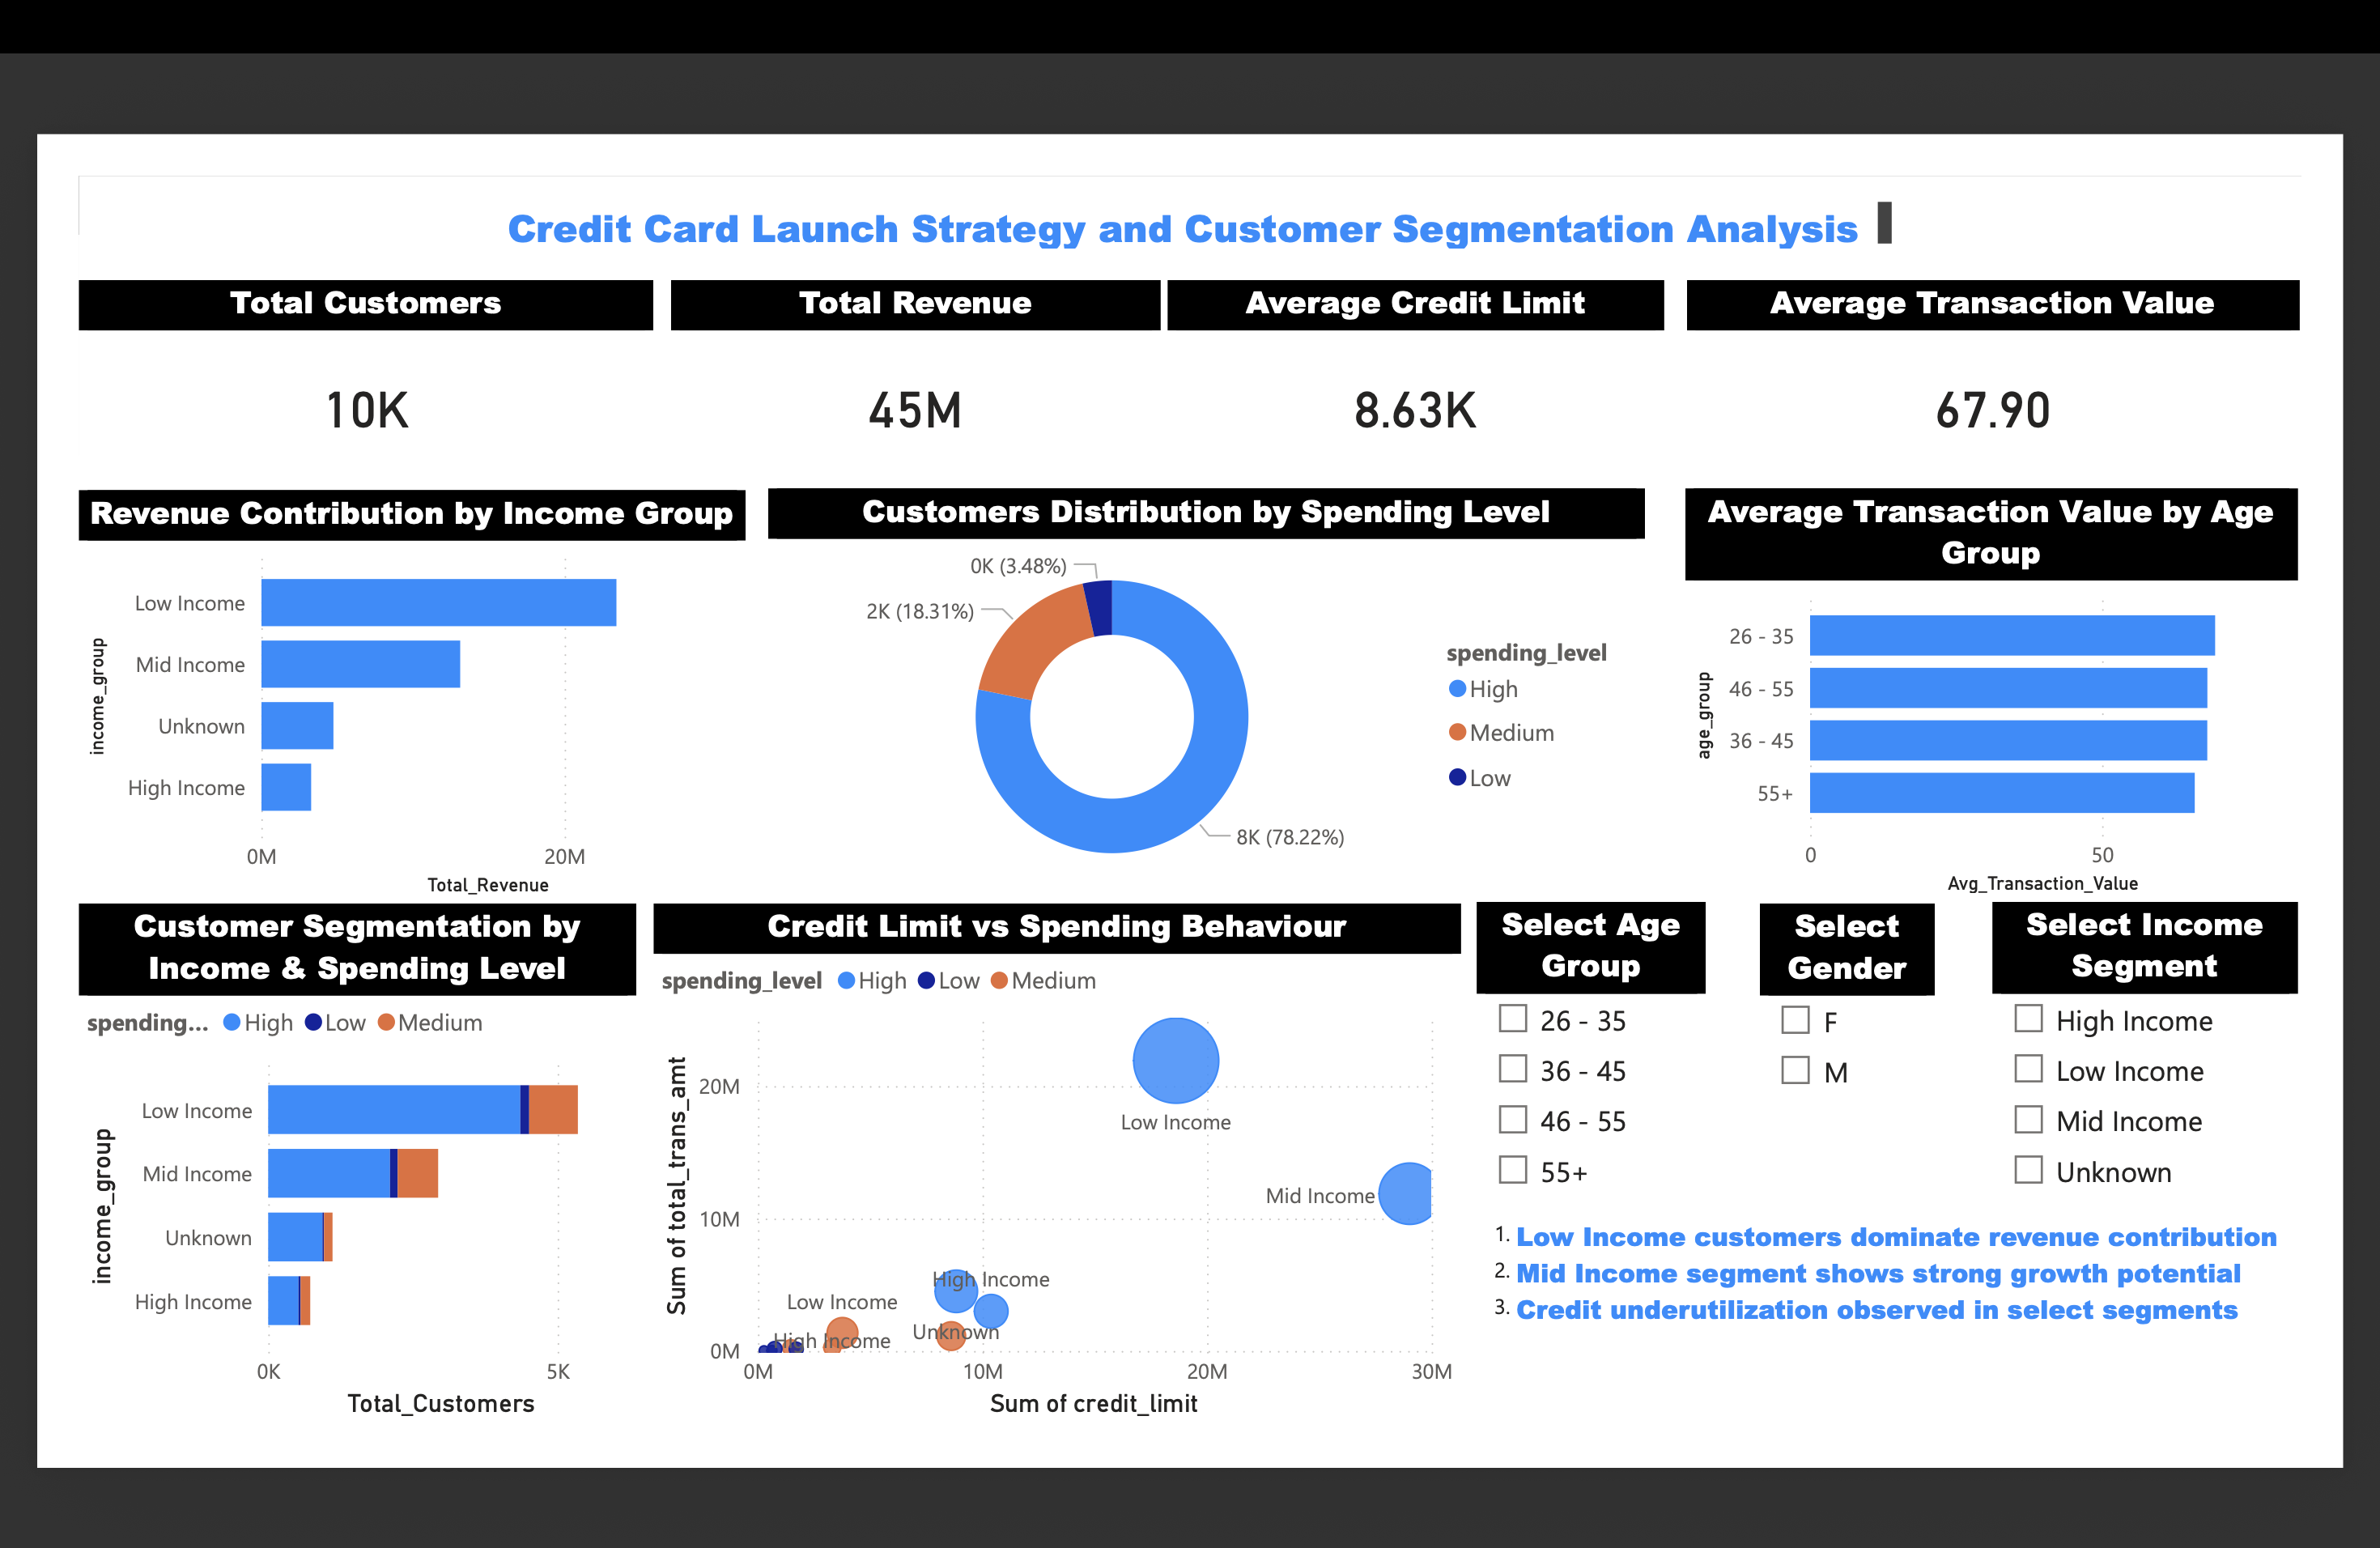

Layout of this report page (visuals, bound fields, positions):
{"tool":"powerbi","page":{"name":"Page 1","canvas":[1280,720],"ordinal":0},"visuals":[{"type":"card","title":"Total Customers","fields":{"Values":["customers.Total_Customers"]},"box":[0,59.9,331.2,120.9],"z":0},{"type":"card","title":"Total Revenue","fields":{"Values":["customers.Total_Revenue"]},"box":[341.4,59.9,281.4,120.9],"z":1},{"type":"card","title":"Average Credit Limit","fields":{"Values":["customers.Avg_Credit_Limit"]},"box":[627.3,59.9,286,120.9],"z":2},{"type":"card","title":"Average Transaction Value","fields":{"Values":["customers.Avg_Transaction_Value"]},"box":[925.7,59.9,353.8,120.9],"z":3},{"type":"barChart","title":"Revenue Contribution by Income Group","fields":{"Category":["customers.income_group"],"Y":["customers.Total_Revenue"]},"box":[0,180.8,384.3,238.5],"z":4},{"type":"donutChart","title":"Customers Distribution by Spending Level","fields":{"Category":["customers.spending_level"],"Y":["customers.Total_Customers"]},"box":[396.7,179.7,505.2,239.6],"z":5},{"type":"barChart","title":"Average Transaction Value by Age Group","fields":{"Category":["customers.age_group"],"Y":["customers.Avg_Transaction_Value"]},"box":[924.6,179.7,353.8,238.5],"z":6},{"type":"barChart","title":"Customer Segmentation by Income & Spending Level","fields":{"Category":["customers.income_group"],"Series":["customers.spending_level"],"Y":["customers.Total_Customers"]},"box":[0,419.3,321,300.7],"z":7},{"type":"slicer","title":"Select Gender","fields":{"Values":["customers.gender"]},"box":[967.5,419.3,101.7,175.2],"z":9},{"type":"slicer","title":"Select Age Group","fields":{"Values":["customers.age_group"]},"box":[804.8,418.2,132.2,176.3],"z":10},{"type":"slicer","title":"Select Income Segment","fields":{"Values":["customers.income_group"]},"box":[1102,418.2,176.3,176.3],"z":11},{"type":"scatterChart","title":"Credit Limit vs Spending Behaviour","fields":{"X":["Sum(customers.credit_limit)"],"Y":["Sum(customers.total_trans_amt)"],"Size":["Sum(customers.total_trans_count)"],"Series":["customers.spending_level"],"Category":["customers.income_group"]},"box":[331.2,419.3,464.6,300.7],"z":12},{"type":"textbox","box":[804.8,594.5,473.6,120.9],"z":13},{"type":"textbox","box":[230.6,10.2,818.3,37.3],"z":14}]}

Visuals, with their boxes on the page's 1280x720 design canvas (x1, y1, x2, y2). These are canvas units, not pixel positions in the 2380x1548 screenshot, which may show the page scaled, cropped or inside an application window:
"Total Customers" card: detection(0, 60, 331, 181)
"Total Revenue" card: detection(341, 60, 623, 181)
"Average Credit Limit" card: detection(627, 60, 913, 181)
"Average Transaction Value" card: detection(926, 60, 1280, 181)
"Revenue Contribution by Income Group" barChart: detection(0, 181, 384, 419)
"Customers Distribution by Spending Level" donutChart: detection(397, 180, 902, 419)
"Average Transaction Value by Age Group" barChart: detection(925, 180, 1278, 418)
"Customer Segmentation by Income & Spending Level" barChart: detection(0, 419, 321, 720)
"Select Gender" slicer: detection(968, 419, 1069, 594)
"Select Age Group" slicer: detection(805, 418, 937, 594)
"Select Income Segment" slicer: detection(1102, 418, 1278, 594)
"Credit Limit vs Spending Behaviour" scatterChart: detection(331, 419, 796, 720)
textbox: detection(805, 594, 1278, 715)
textbox: detection(231, 10, 1049, 48)
